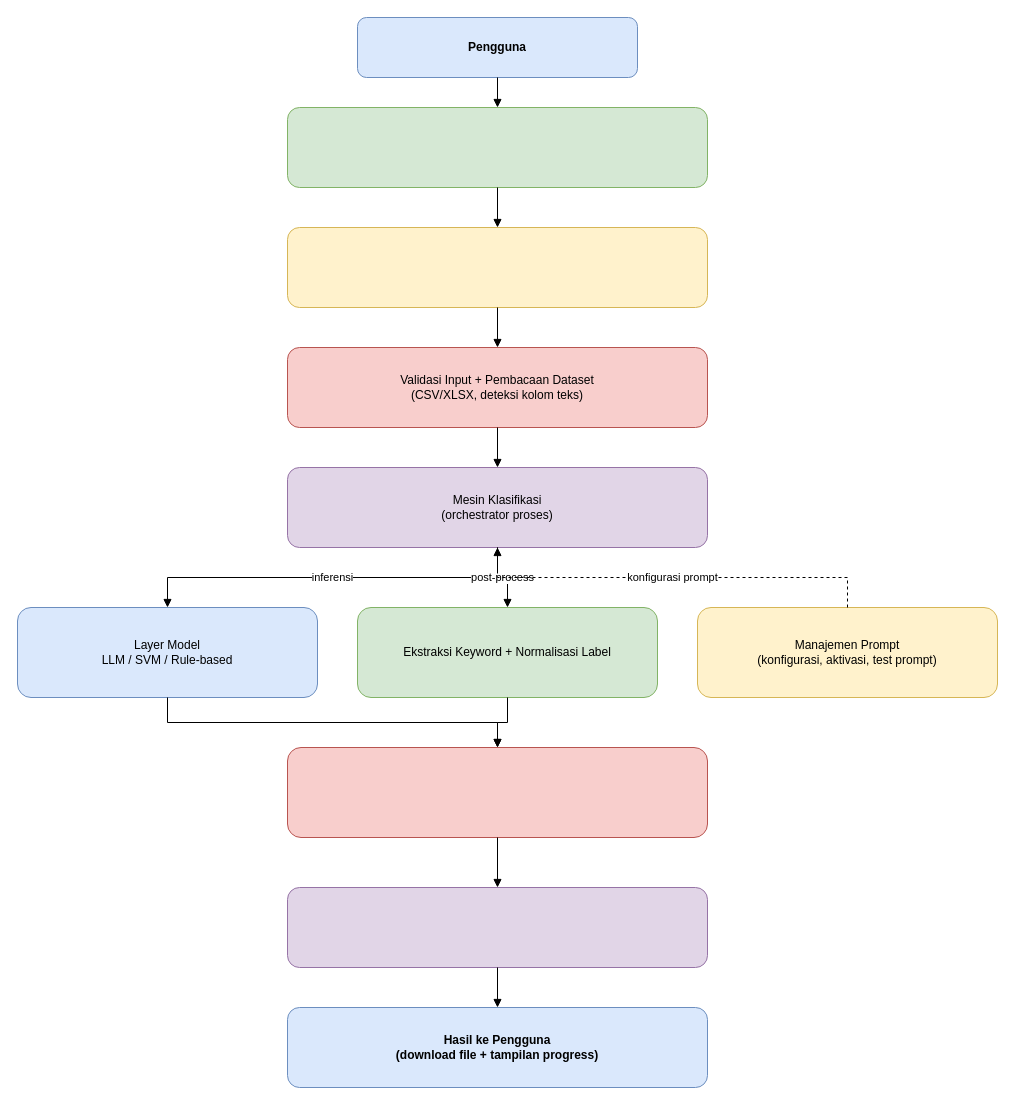
The diagram is 1015 pixels wide and 1105 high, and some of its shapes have lost their labels. Here are the shapes that lost their labels. From the top down, the centre of each, then its label:
At point 497,147: "Antarmuka Web (Klasifikasi, Chat, Prompt Manager)".
At point 497,267: "Flask Controller / API Routes (app.py)".
At point 497,792: "Evaluasi + Perbandingan Ground Truth (akurasi, presisi, recall, f1)".
At point 497,927: "Penyimpanan Output (file hasil, metrics, logs)".
